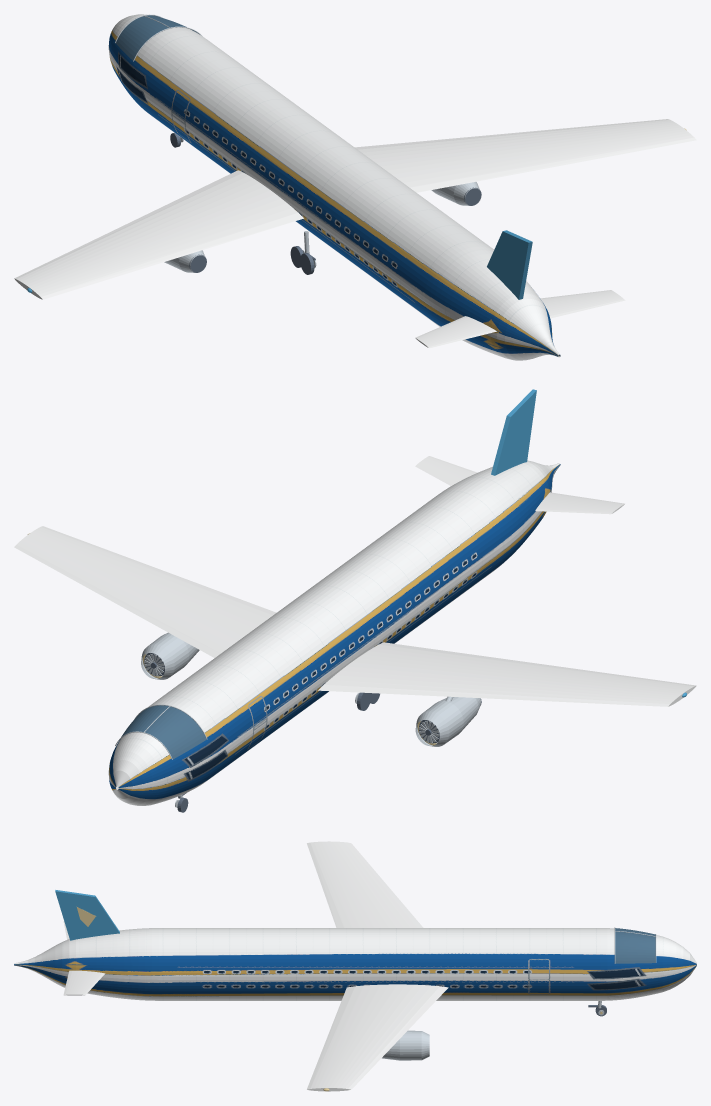
File: 01_mandalay_skyline_airliner.glb
3 views of the same model, one above another, from view 1: azimuth 30°, elevation 25°; view 2: azimuth 150°, elevation 25°; view 3: azimuth 270°, elevation 25° (orthographic). The views are drawn at different scales.
Parts seen in each view (by area): view 1: textured_airframe, body-details, accent-details, glass-details, metal-details, landing_gear_dark; view 2: textured_airframe, body-details, metal-details, glass-details, accent-details; view 3: textured_airframe, body-details, accent-details, glass-details, metal-details.
Part boxes in pixels (x1=…): textured_airframe: x1=108, y1=14, x2=560, y2=360; body-details: x1=14, y1=119, x2=696, y2=348; accent-details: x1=27, y1=230, x2=532, y2=299; glass-details: x1=116, y1=15, x2=198, y2=60; metal-details: x1=115, y1=14, x2=481, y2=272; landing_gear_dark: x1=170, y1=133, x2=315, y2=274; textured_airframe: x1=108, y1=460, x2=560, y2=805; body-details: x1=14, y1=456, x2=696, y2=706; metal-details: x1=115, y1=632, x2=480, y2=759; glass-details: x1=121, y1=705, x2=206, y2=759; accent-details: x1=491, y1=389, x2=686, y2=697; textured_airframe: x1=14, y1=928, x2=696, y2=1000; body-details: x1=63, y1=841, x2=448, y2=1091; accent-details: x1=55, y1=890, x2=119, y2=940; glass-details: x1=615, y1=928, x2=655, y2=963; metal-details: x1=382, y1=927, x2=656, y2=1060.
Bounding box in the file's own units: 38.26 × 9.14 × 44.5.
Materials: 10 (1 with a texture image).
